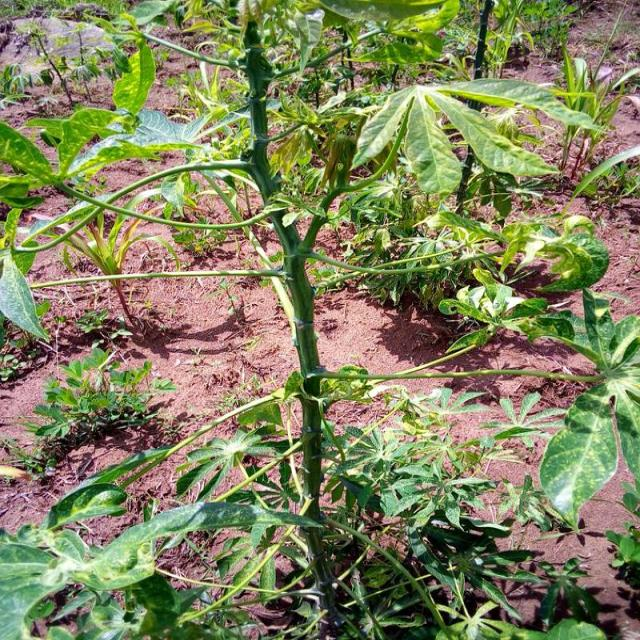cassava leaf: (352, 76, 602, 198), (539, 381, 620, 532), (113, 38, 157, 118)
